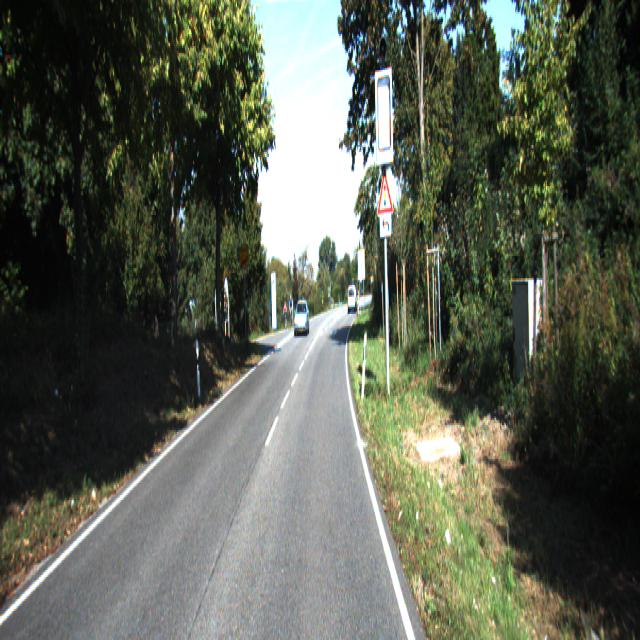Car: (293, 301, 309, 337)
